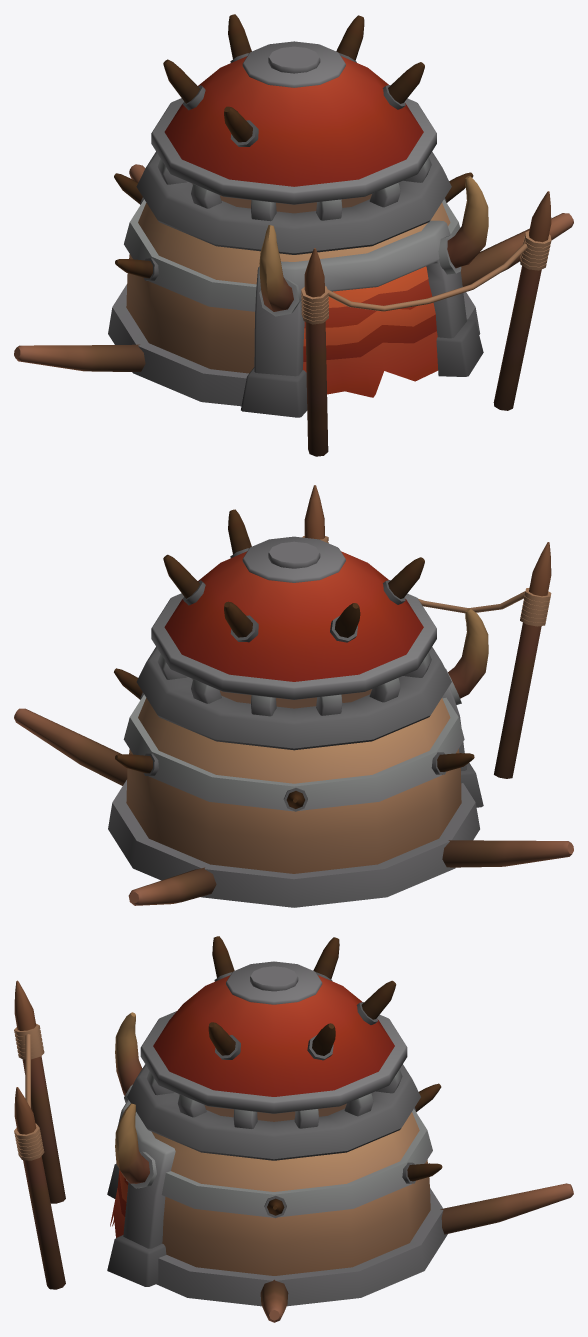
Rendered from Camp_1.fbx.
The picture shows the model from 3 angles, top to bottom: view 1: azimuth 30°, elevation 25°; view 2: azimuth 150°, elevation 25°; view 3: azimuth 270°, elevation 25°; orthographic projection. The views are drawn at different scales.
Visible parts, largest first — view 1: Camp_1; view 2: Camp_1; view 3: Camp_1.
Part boxes in pixels (left/top/right/bottom): Camp_1: left=14, top=14, right=573, bottom=456; Camp_1: left=14, top=485, right=573, bottom=907; Camp_1: left=14, top=936, right=573, bottom=1322.
Size of the model in its own units: 511 by 252 by 477.
